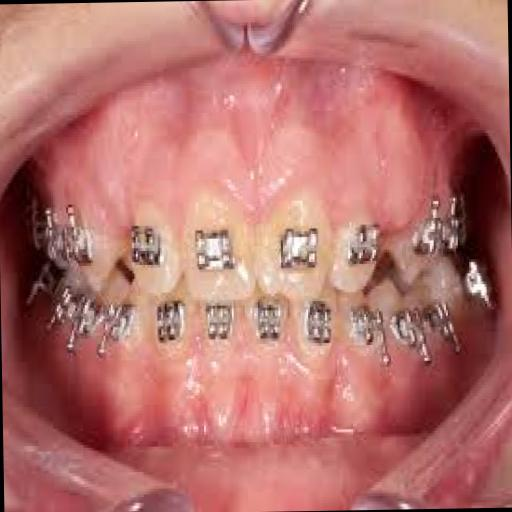correct_brace: (189, 213, 241, 284), (130, 214, 169, 277), (280, 220, 324, 272), (343, 221, 381, 276)
incorrect_brace: (126, 202, 182, 293), (332, 209, 382, 294)
